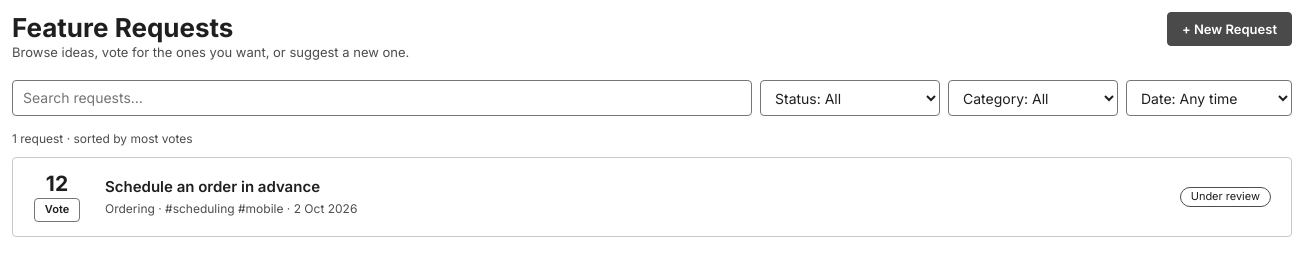
Test case: Feature Requests list › votes and updates the count
Click the button with aria-label "Vote for Schedule an order in advance" at (57, 210), box top-left (34, 198), bottom-right (80, 222)
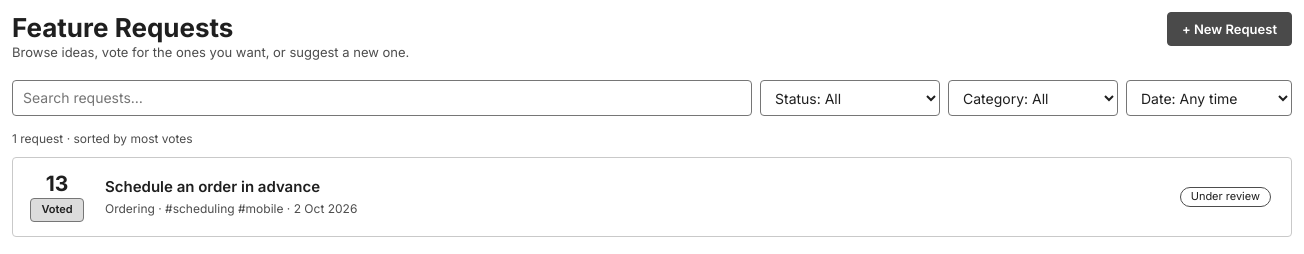
Expected: the button with aria-label "Remove vote from Schedule an order in advance" is shown, top-left (30, 198), bottom-right (84, 222)
Expected: the text "13" is shown, top-left (46, 172), bottom-right (68, 196)
